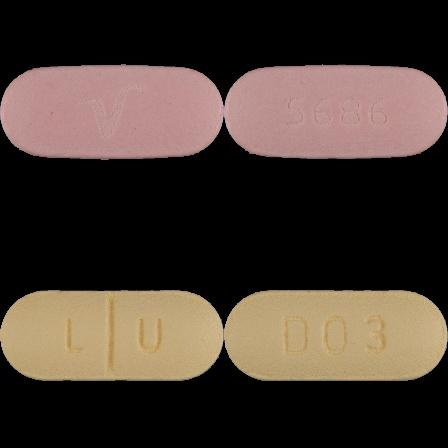63187-211: (0, 0, 224, 224)
